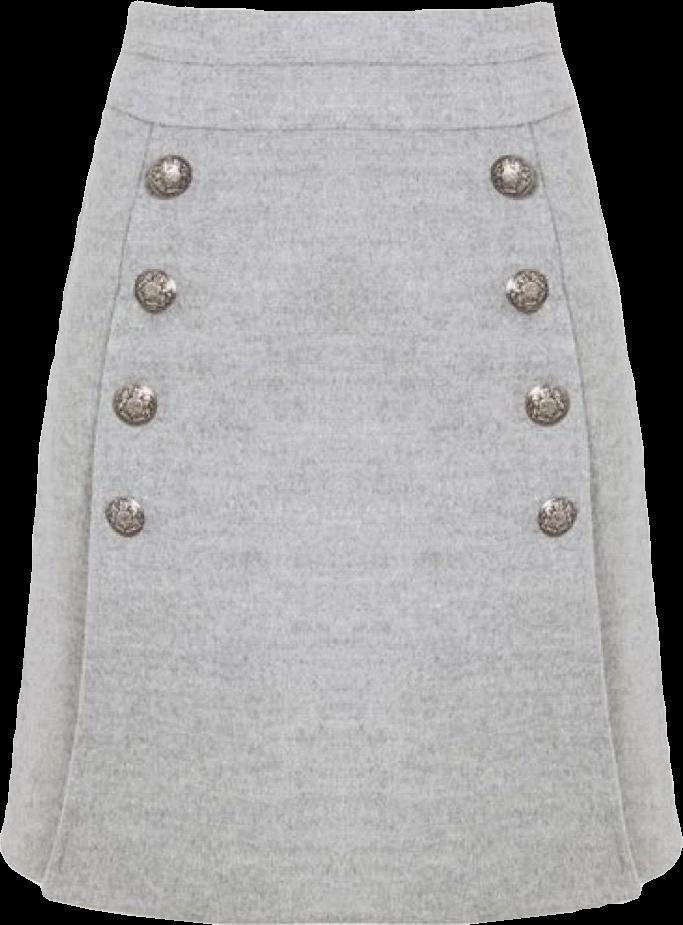Hemline: (0, 839, 682, 924)
Waistline: (100, 100, 583, 140), (126, 0, 553, 22)
